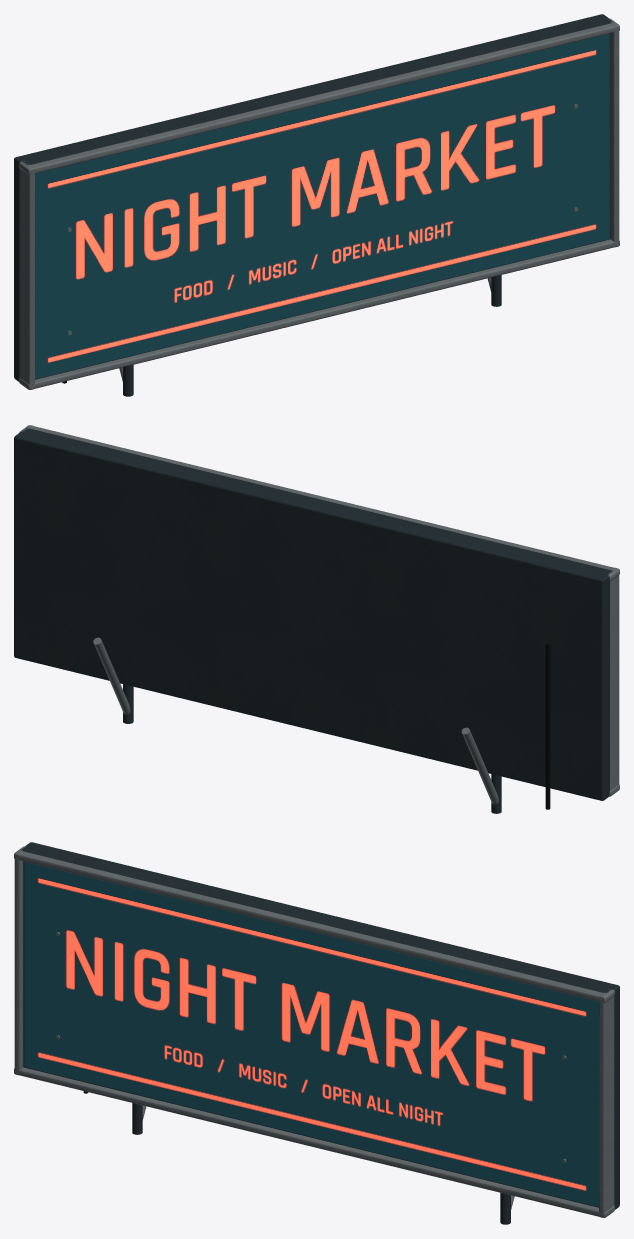
File: NC_Sign_market_LOD0.fbx
3 renders of one model, top to bottom at view 1: azimuth 30°, elevation 25°; view 2: azimuth 150°, elevation 25°; view 3: azimuth 330°, elevation 25°, orthographic.
Parts seen in each view (by area): view 1: NC_Sign_market_LOD0; view 2: NC_Sign_market_LOD0; view 3: NC_Sign_market_LOD0.
Boxes of the visible parts, bbox=[...] form: NC_Sign_market_LOD0: bbox=[14, 14, 619, 396]; NC_Sign_market_LOD0: bbox=[14, 425, 619, 813]; NC_Sign_market_LOD0: bbox=[14, 842, 619, 1224].
Size of the model in its own units: 720 by 304 by 94.87.
